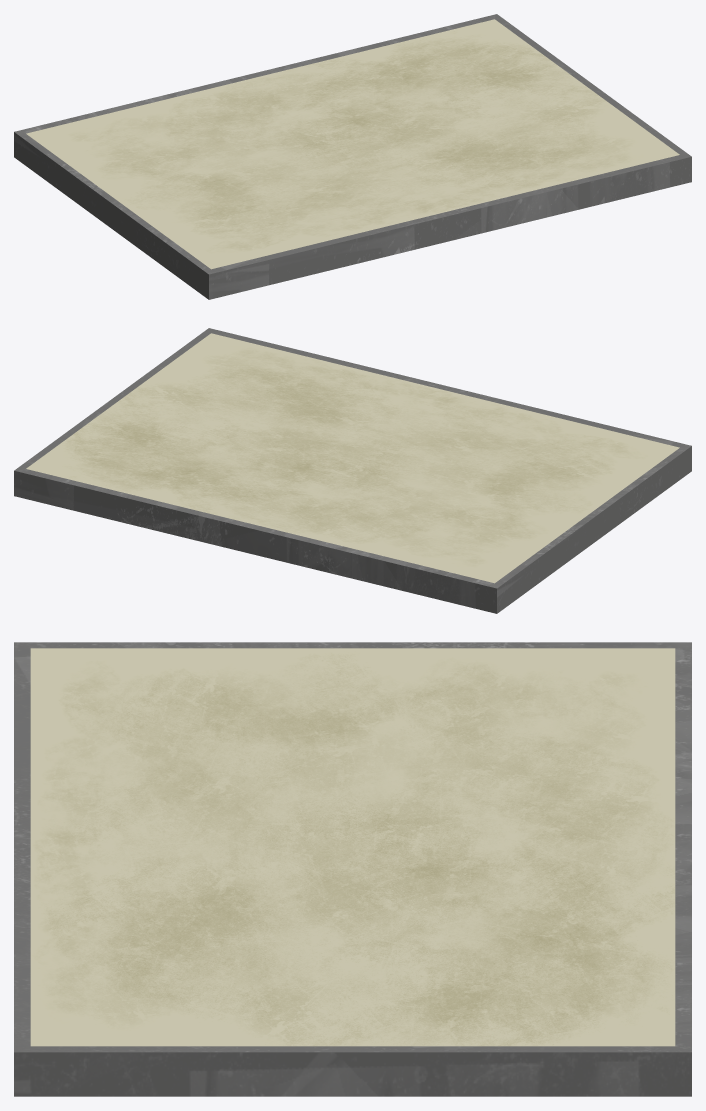
The model's file is NewLightTable.fbx.
3 views of the same model, one above another, from view 1: azimuth 30°, elevation 25°; view 2: azimuth 150°, elevation 25°; view 3: azimuth 270°, elevation 25° (orthographic). The views are drawn at different scales.
Parts seen in each view (by area): view 1: Cube.017; view 2: Cube.017; view 3: Cube.017.
Part boxes in pixels (x1,y1,x2,y2): Cube.017: [14, 14, 691, 299]; Cube.017: [14, 328, 691, 613]; Cube.017: [14, 642, 691, 1096].
Size of the model in its own units: 401 by 20.17 by 280.
